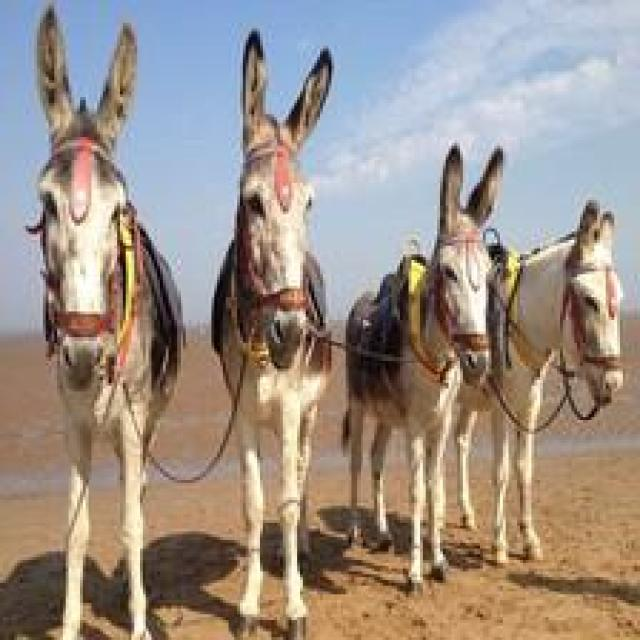Donkey: (28, 0, 183, 637), (209, 26, 334, 637), (340, 140, 506, 594), (448, 197, 623, 563)
